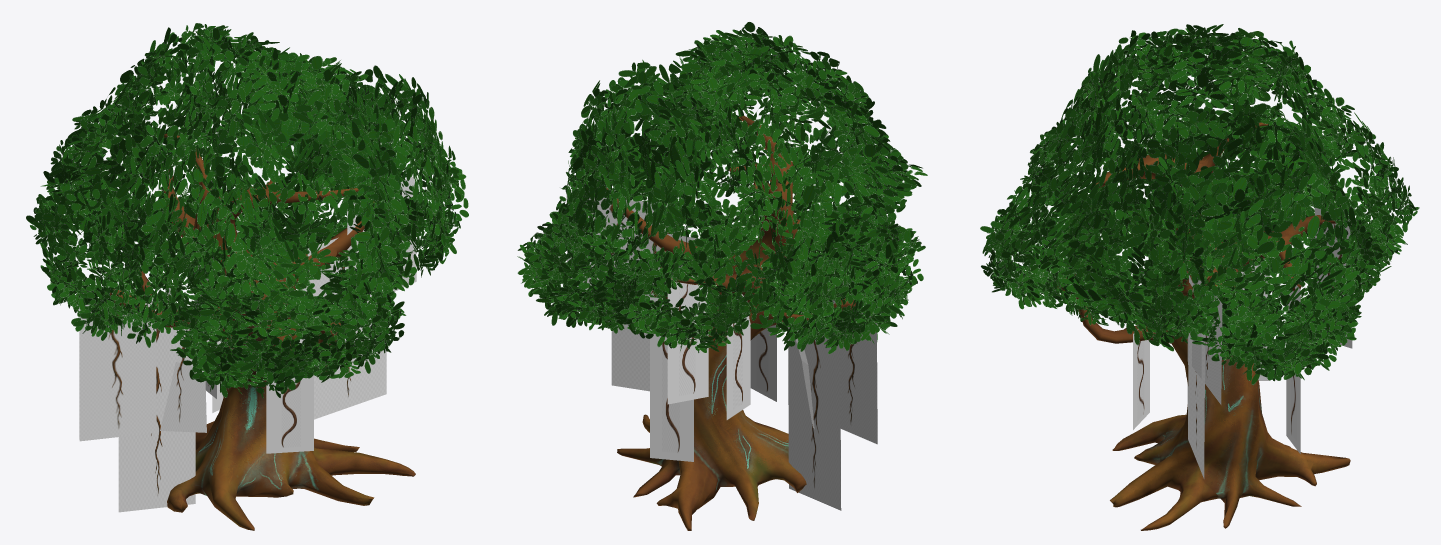
File: TestingToUnity1.fbx
The picture shows the model from 3 angles, left to right: view 1: azimuth 30°, elevation 25°; view 2: azimuth 150°, elevation 25°; view 3: azimuth 270°, elevation 25°; orthographic projection. The views are drawn at different scales.
Visible parts, largest first — view 1: LeavesRendering, PanoharraTrunk.001, Empty.018, Empty.002, Empty.001, Empty.005, Empty.008, Empty.019; view 2: LeavesRendering, PanoharraTrunk.001, Empty.002, Empty.006, Empty.018, Empty.021, Empty.001, Empty.022, Empty.005, Empty.019; view 3: LeavesRendering, PanoharraTrunk.001, Empty.001, Empty.005, Empty.019, Empty.006.
Boxes of the visible parts, x1=… form: LeavesRendering: x1=26, y1=23, x2=468, y2=398; PanoharraTrunk.001: x1=110, y1=133, x2=415, y2=530; Empty.018: x1=79, y1=297, x2=156, y2=441; Empty.002: x1=118, y1=327, x2=195, y2=512; Empty.001: x1=307, y1=237, x2=386, y2=419; Empty.005: x1=266, y1=375, x2=313, y2=453; Empty.008: x1=160, y1=329, x2=211, y2=432; Empty.019: x1=347, y1=176, x2=416, y2=303; LeavesRendering: x1=517, y1=22, x2=927, y2=353; PanoharraTrunk.001: x1=606, y1=115, x2=855, y2=530; Empty.002: x1=788, y1=312, x2=841, y2=510; Empty.006: x1=650, y1=297, x2=693, y2=461; Empty.018: x1=827, y1=300, x2=877, y2=444; Empty.021: x1=667, y1=275, x2=708, y2=404; Empty.001: x1=611, y1=228, x2=699, y2=391; Empty.022: x1=726, y1=294, x2=750, y2=419; Empty.005: x1=750, y1=325, x2=776, y2=401; Empty.019: x1=566, y1=195, x2=659, y2=294; LeavesRendering: x1=980, y1=24, x2=1419, y2=385; PanoharraTrunk.001: x1=1057, y1=122, x2=1350, y2=530; Empty.001: x1=1188, y1=275, x2=1205, y2=478; Empty.005: x1=1133, y1=329, x2=1149, y2=429; Empty.019: x1=1192, y1=280, x2=1222, y2=404; Empty.006: x1=1286, y1=285, x2=1300, y2=453.
Bounding box in the file's own units: 2451 × 2720 × 2511.
